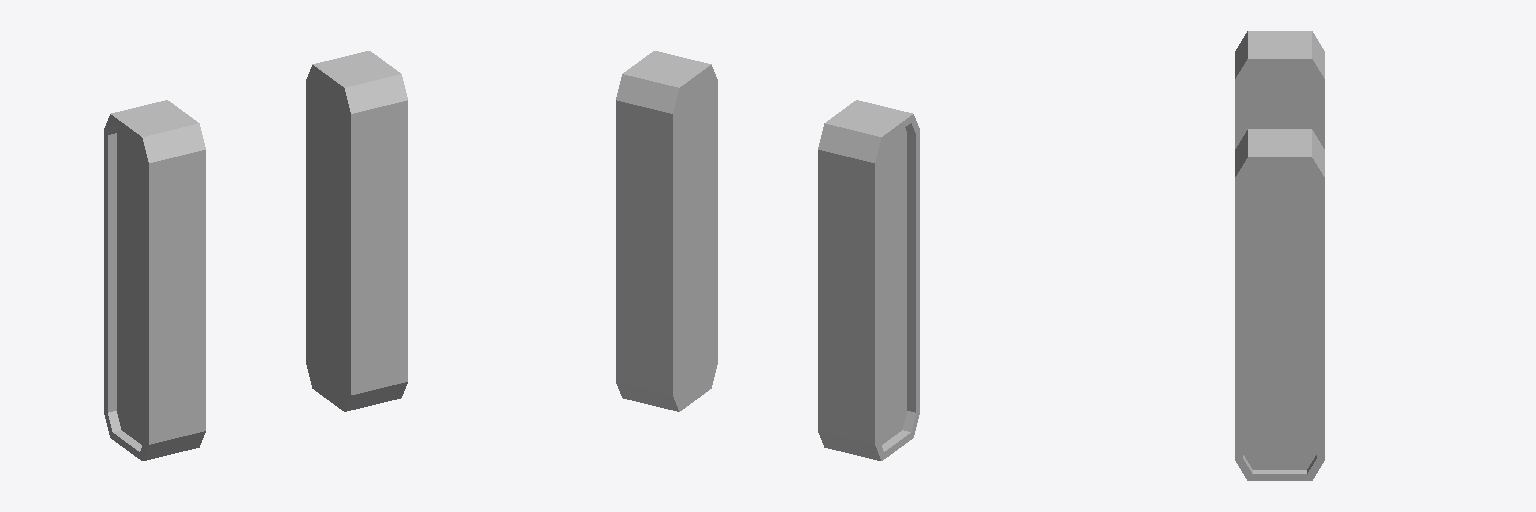
Rendered from tracks.obj.
3 views of the same model, side by side, from view 1: azimuth 30°, elevation 25°; view 2: azimuth 150°, elevation 25°; view 3: azimuth 270°, elevation 25° (orthographic).
Parts seen in each view (by area): view 1: tracks; view 2: tracks; view 3: tracks.
Boxes of the visible parts, box(x1,y1,x2,y2) form: tracks: box(104, 51, 407, 460); tracks: box(616, 51, 919, 460); tracks: box(1235, 31, 1324, 480).
Bounding box in the file's own units: 2.24 × 2.68 × 0.6764.